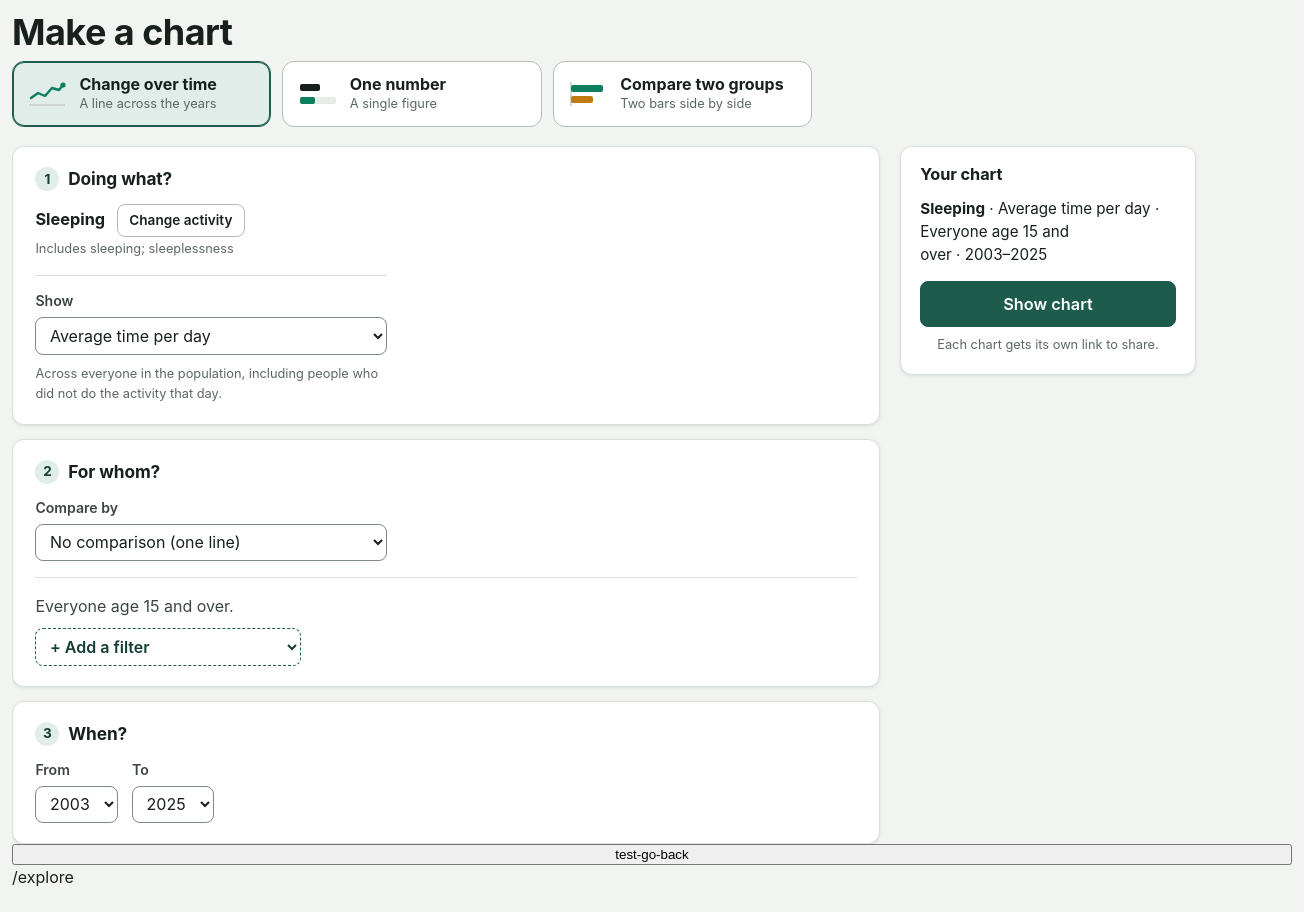
Scenario: builder defaults and discovery › summarizes the chart in one line beside the form, with the "Show chart" button
Expected: the button "Show chart" is shown, [920,281,1176,327]
Click the radio button labelled "One number" at {"x": 412, "y": 94}, box [282,61,542,127]
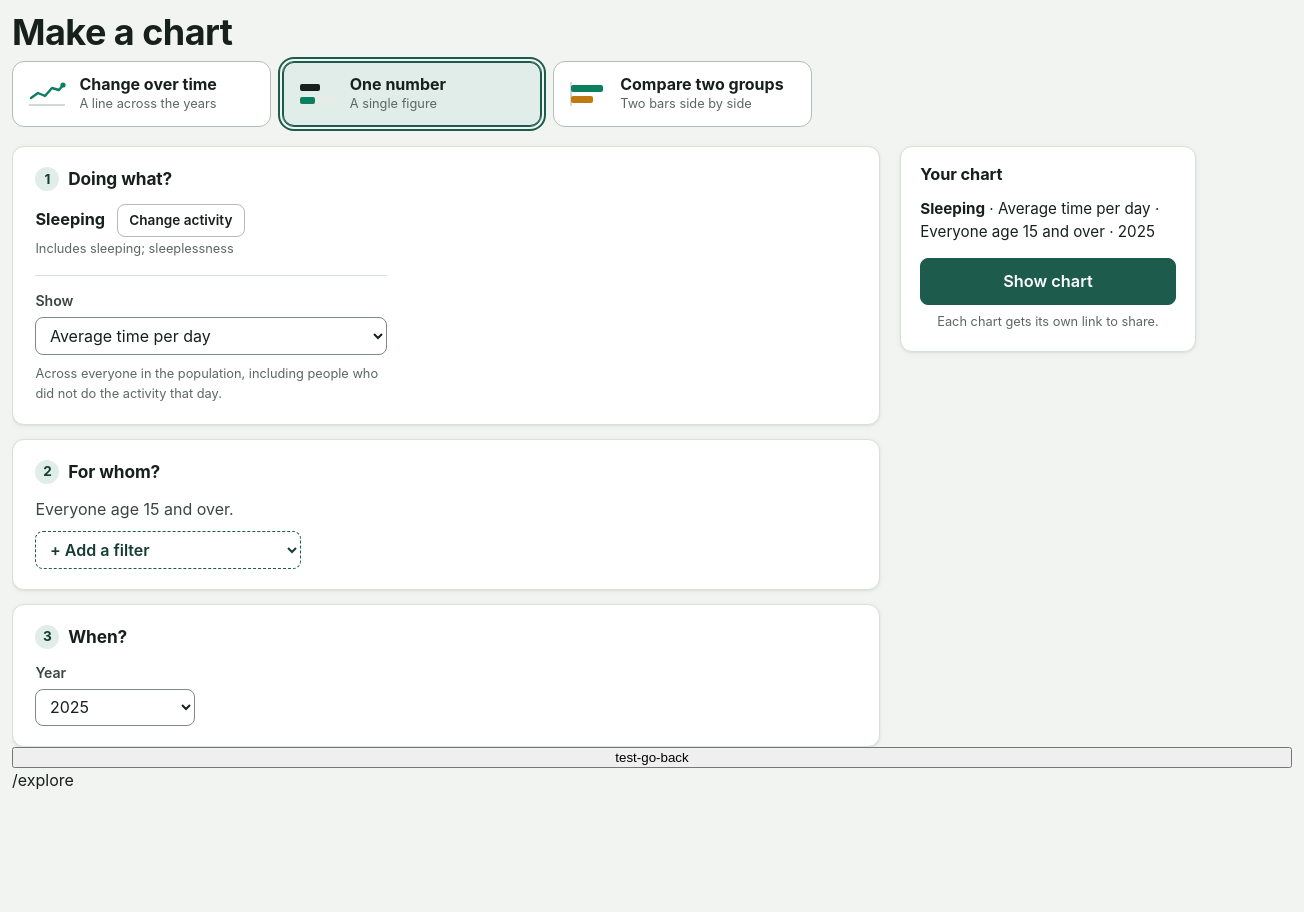
Expected: the button "Show chart" is shown, [920,258,1176,305]
Expected: the element with class "builder-summary__text" reads "Sleeping · Average time per day · Everyone age 15 and over · 2025", [920,198,1176,244]
Select "Sex" in the dropdown named "Add a filter" at {"x": 168, "y": 550}, box [35,531,301,569]
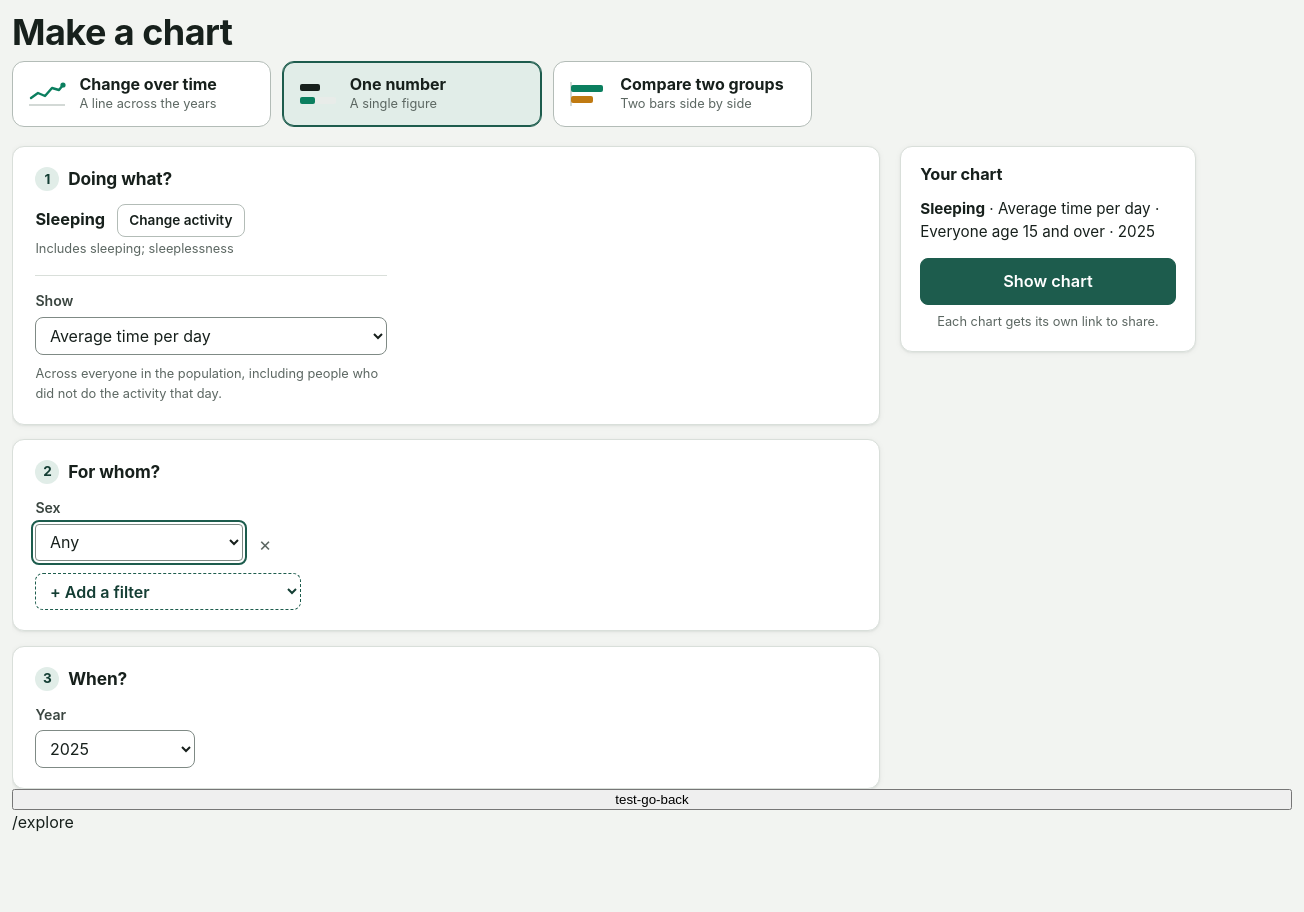
Select "Female" in the dropdown labelled "Sex" at {"x": 139, "y": 542}, box [35,524,243,561]
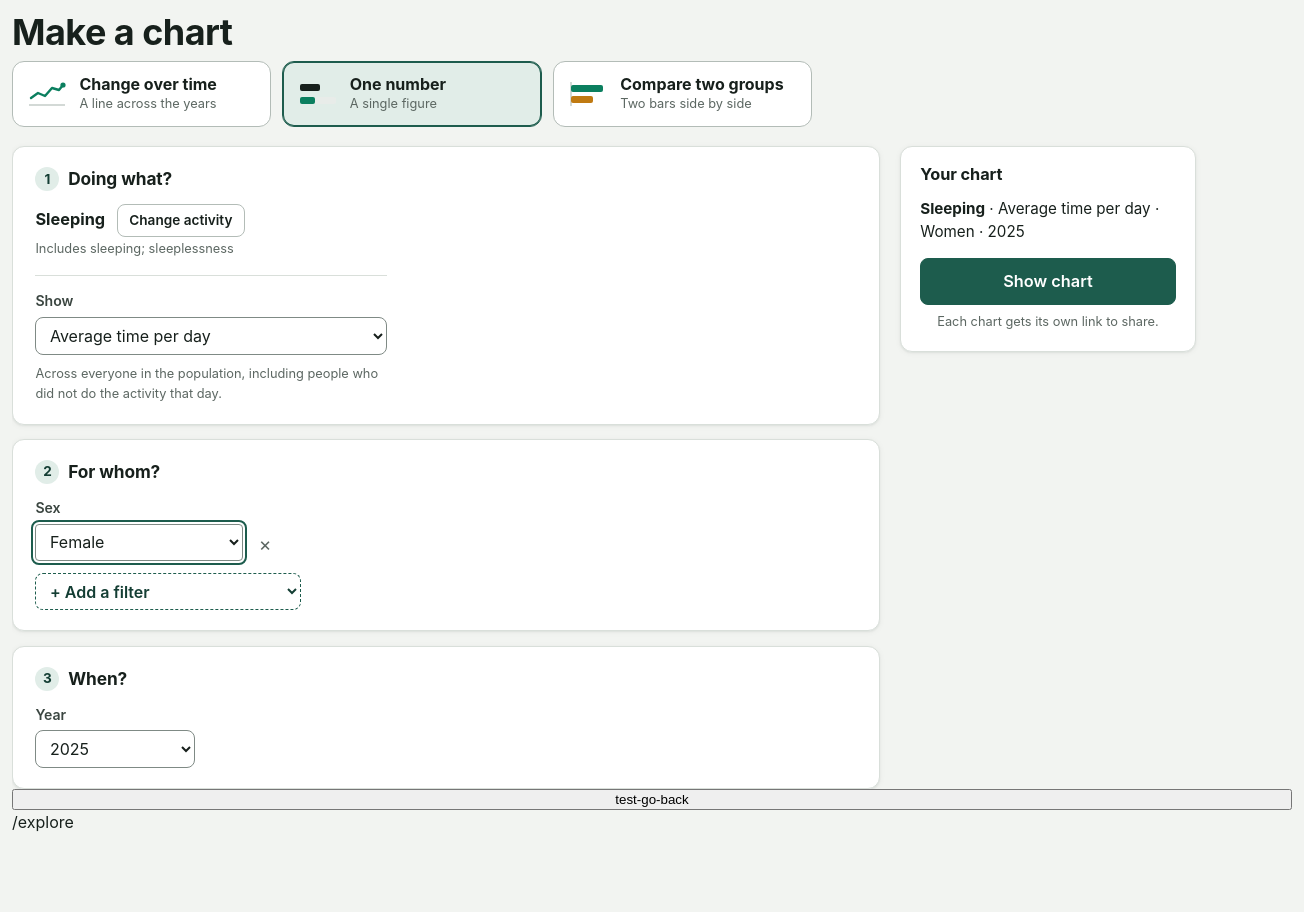
Expected: the element showing "Sleeping · Average time per day · Women · 2025" is shown, [920,198,1176,244]
Click the radio button labelled "Compare two groups" at {"x": 682, "y": 94}, box [553,61,812,127]
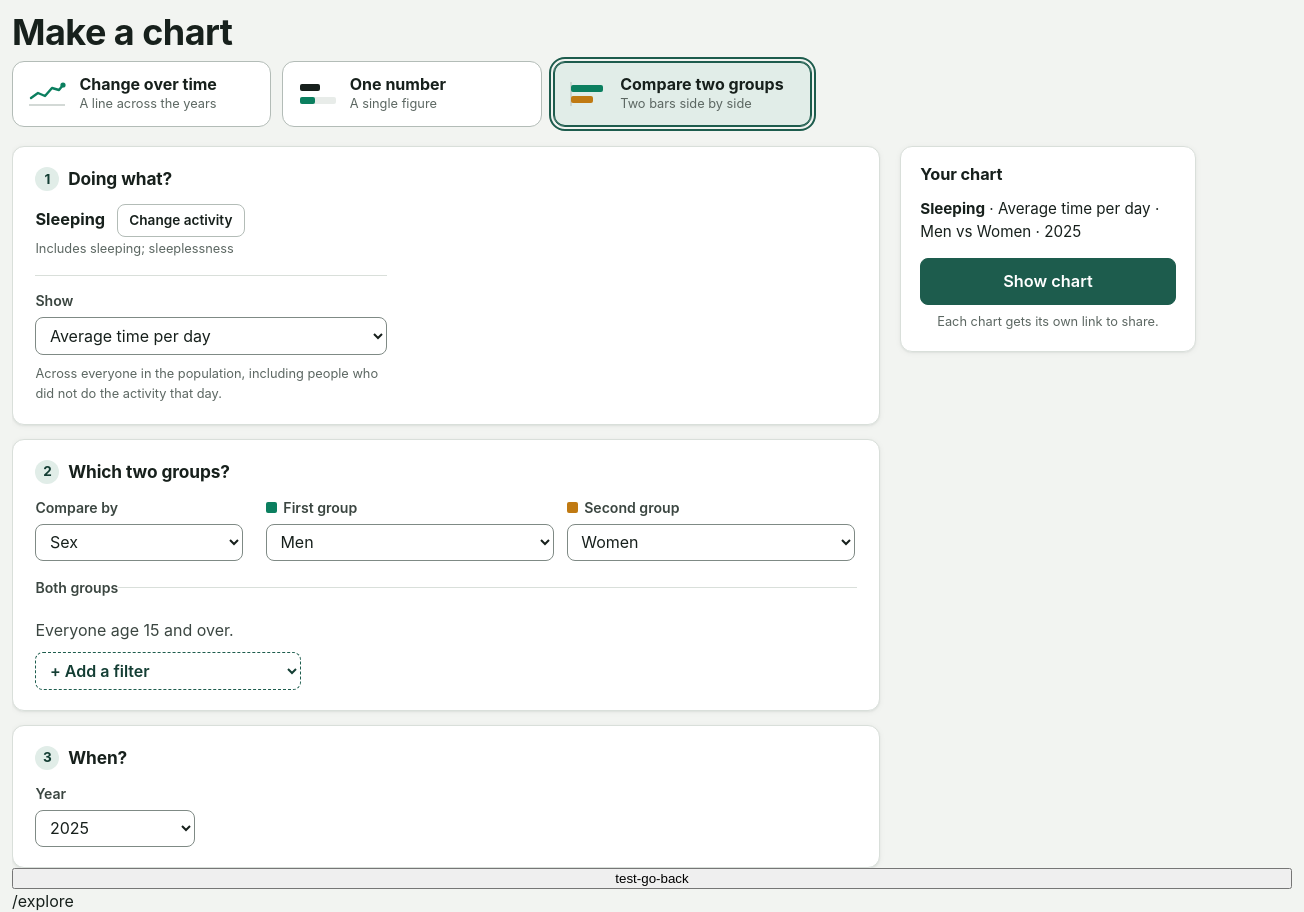
Expected: the element showing "Sleeping · Average time per day · Men vs Women · 2025" is shown, [920,198,1176,244]
